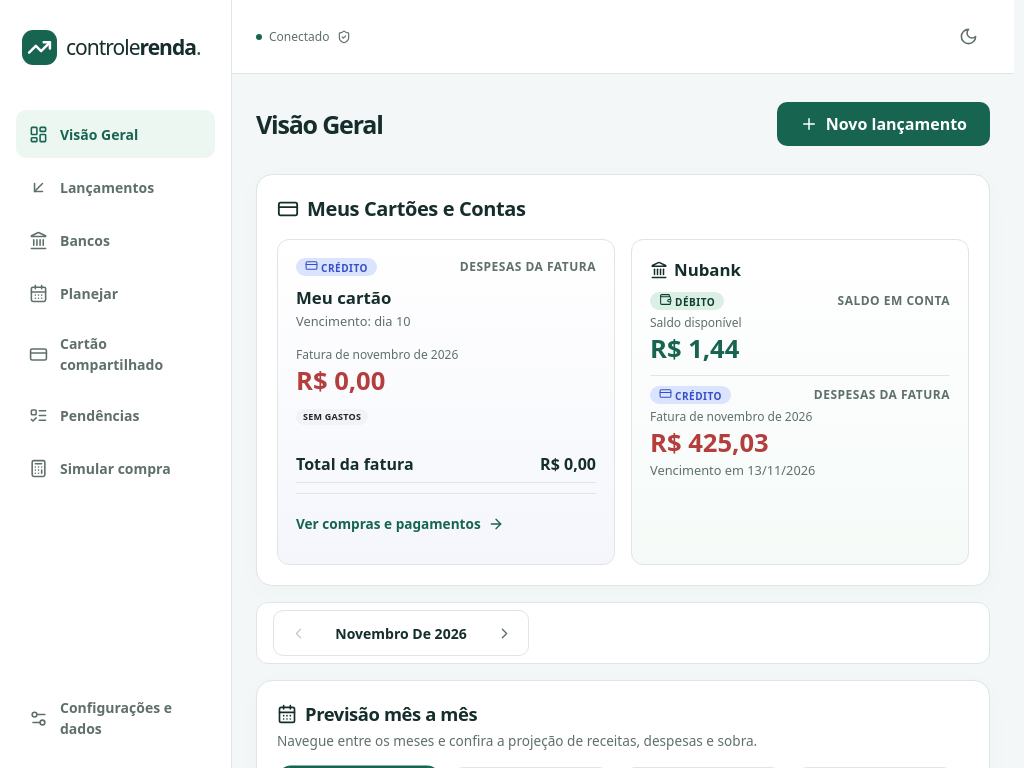
Test: mostra débito e crédito do mesmo banco juntos quando há um de cada
expect the element "Nubank" shows "DÉBITO": met, box [672,295,715,309]
expect the element "Nubank" shows "R$ 1,44": met, box [650,331,739,366]
Click the button named "Próximo mês": (504, 633) [482,611,526,655]
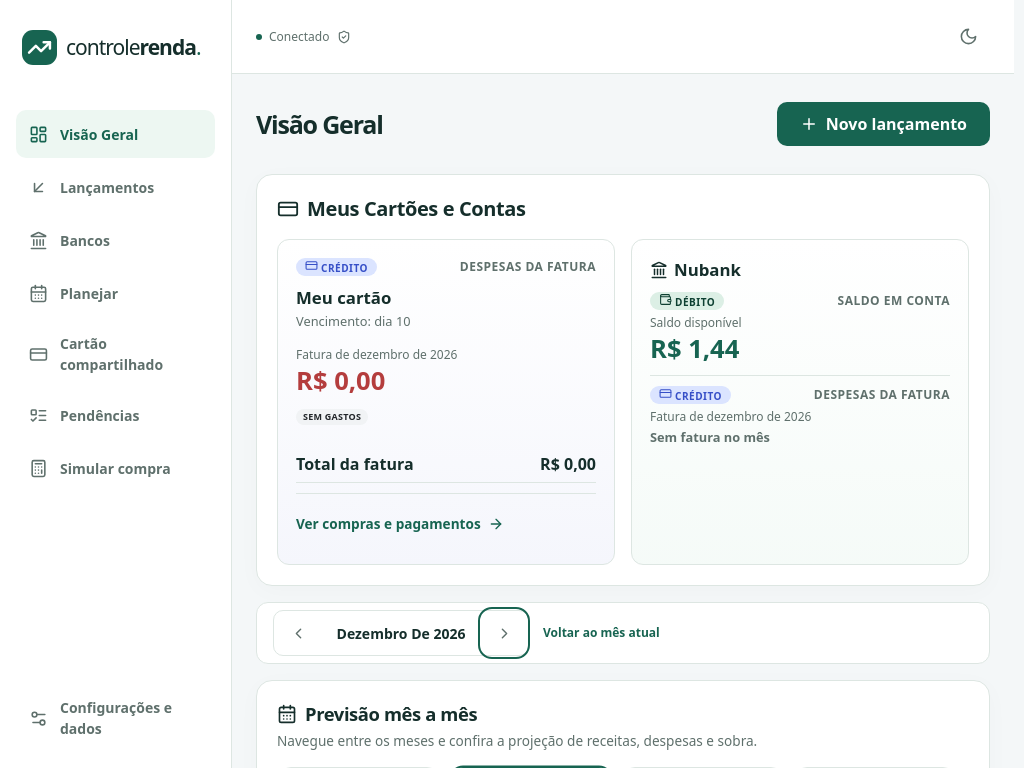
expect the element "Nubank" shows "R$ 1,44": met, box [650,331,739,366]
expect the element "Nubank" shows "Sem fatura no mês": met, box [650,428,770,446]
